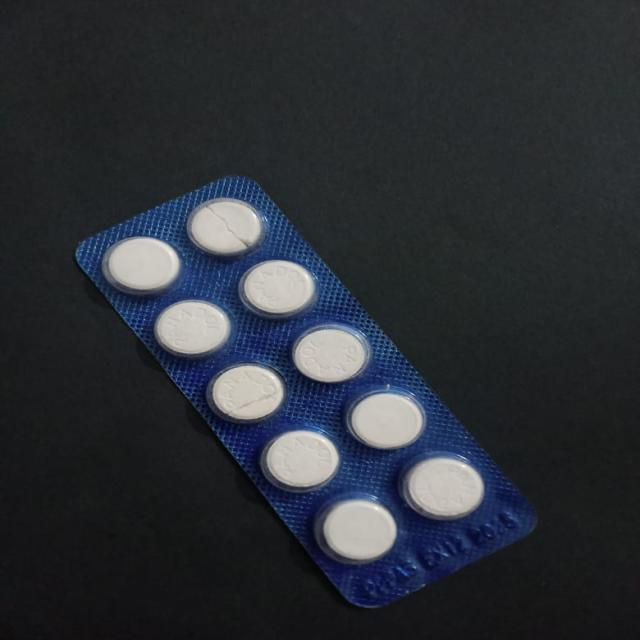defect: (184, 195, 270, 261), (206, 362, 290, 425)
